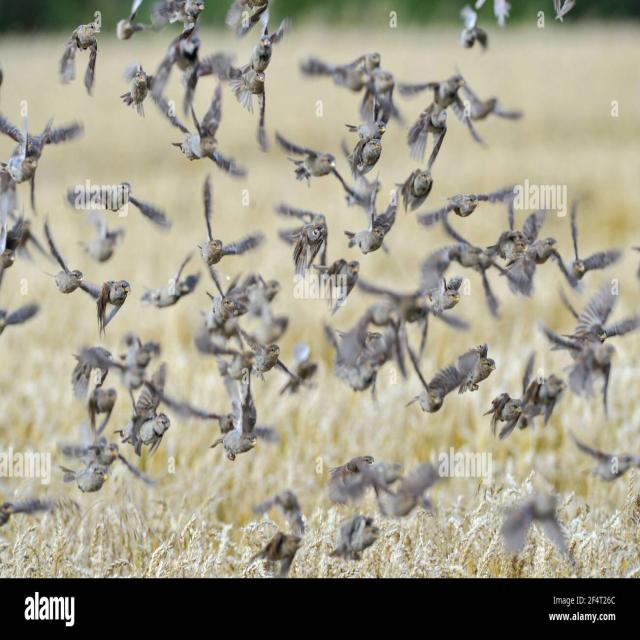bird: (199, 180, 260, 269), (407, 342, 477, 416), (40, 224, 100, 300), (178, 88, 228, 173), (349, 182, 400, 258), (151, 33, 207, 101), (58, 20, 100, 103), (576, 289, 636, 346), (426, 188, 508, 228), (395, 166, 439, 218), (285, 223, 324, 277), (96, 274, 132, 332), (231, 71, 270, 120), (345, 140, 385, 174)
